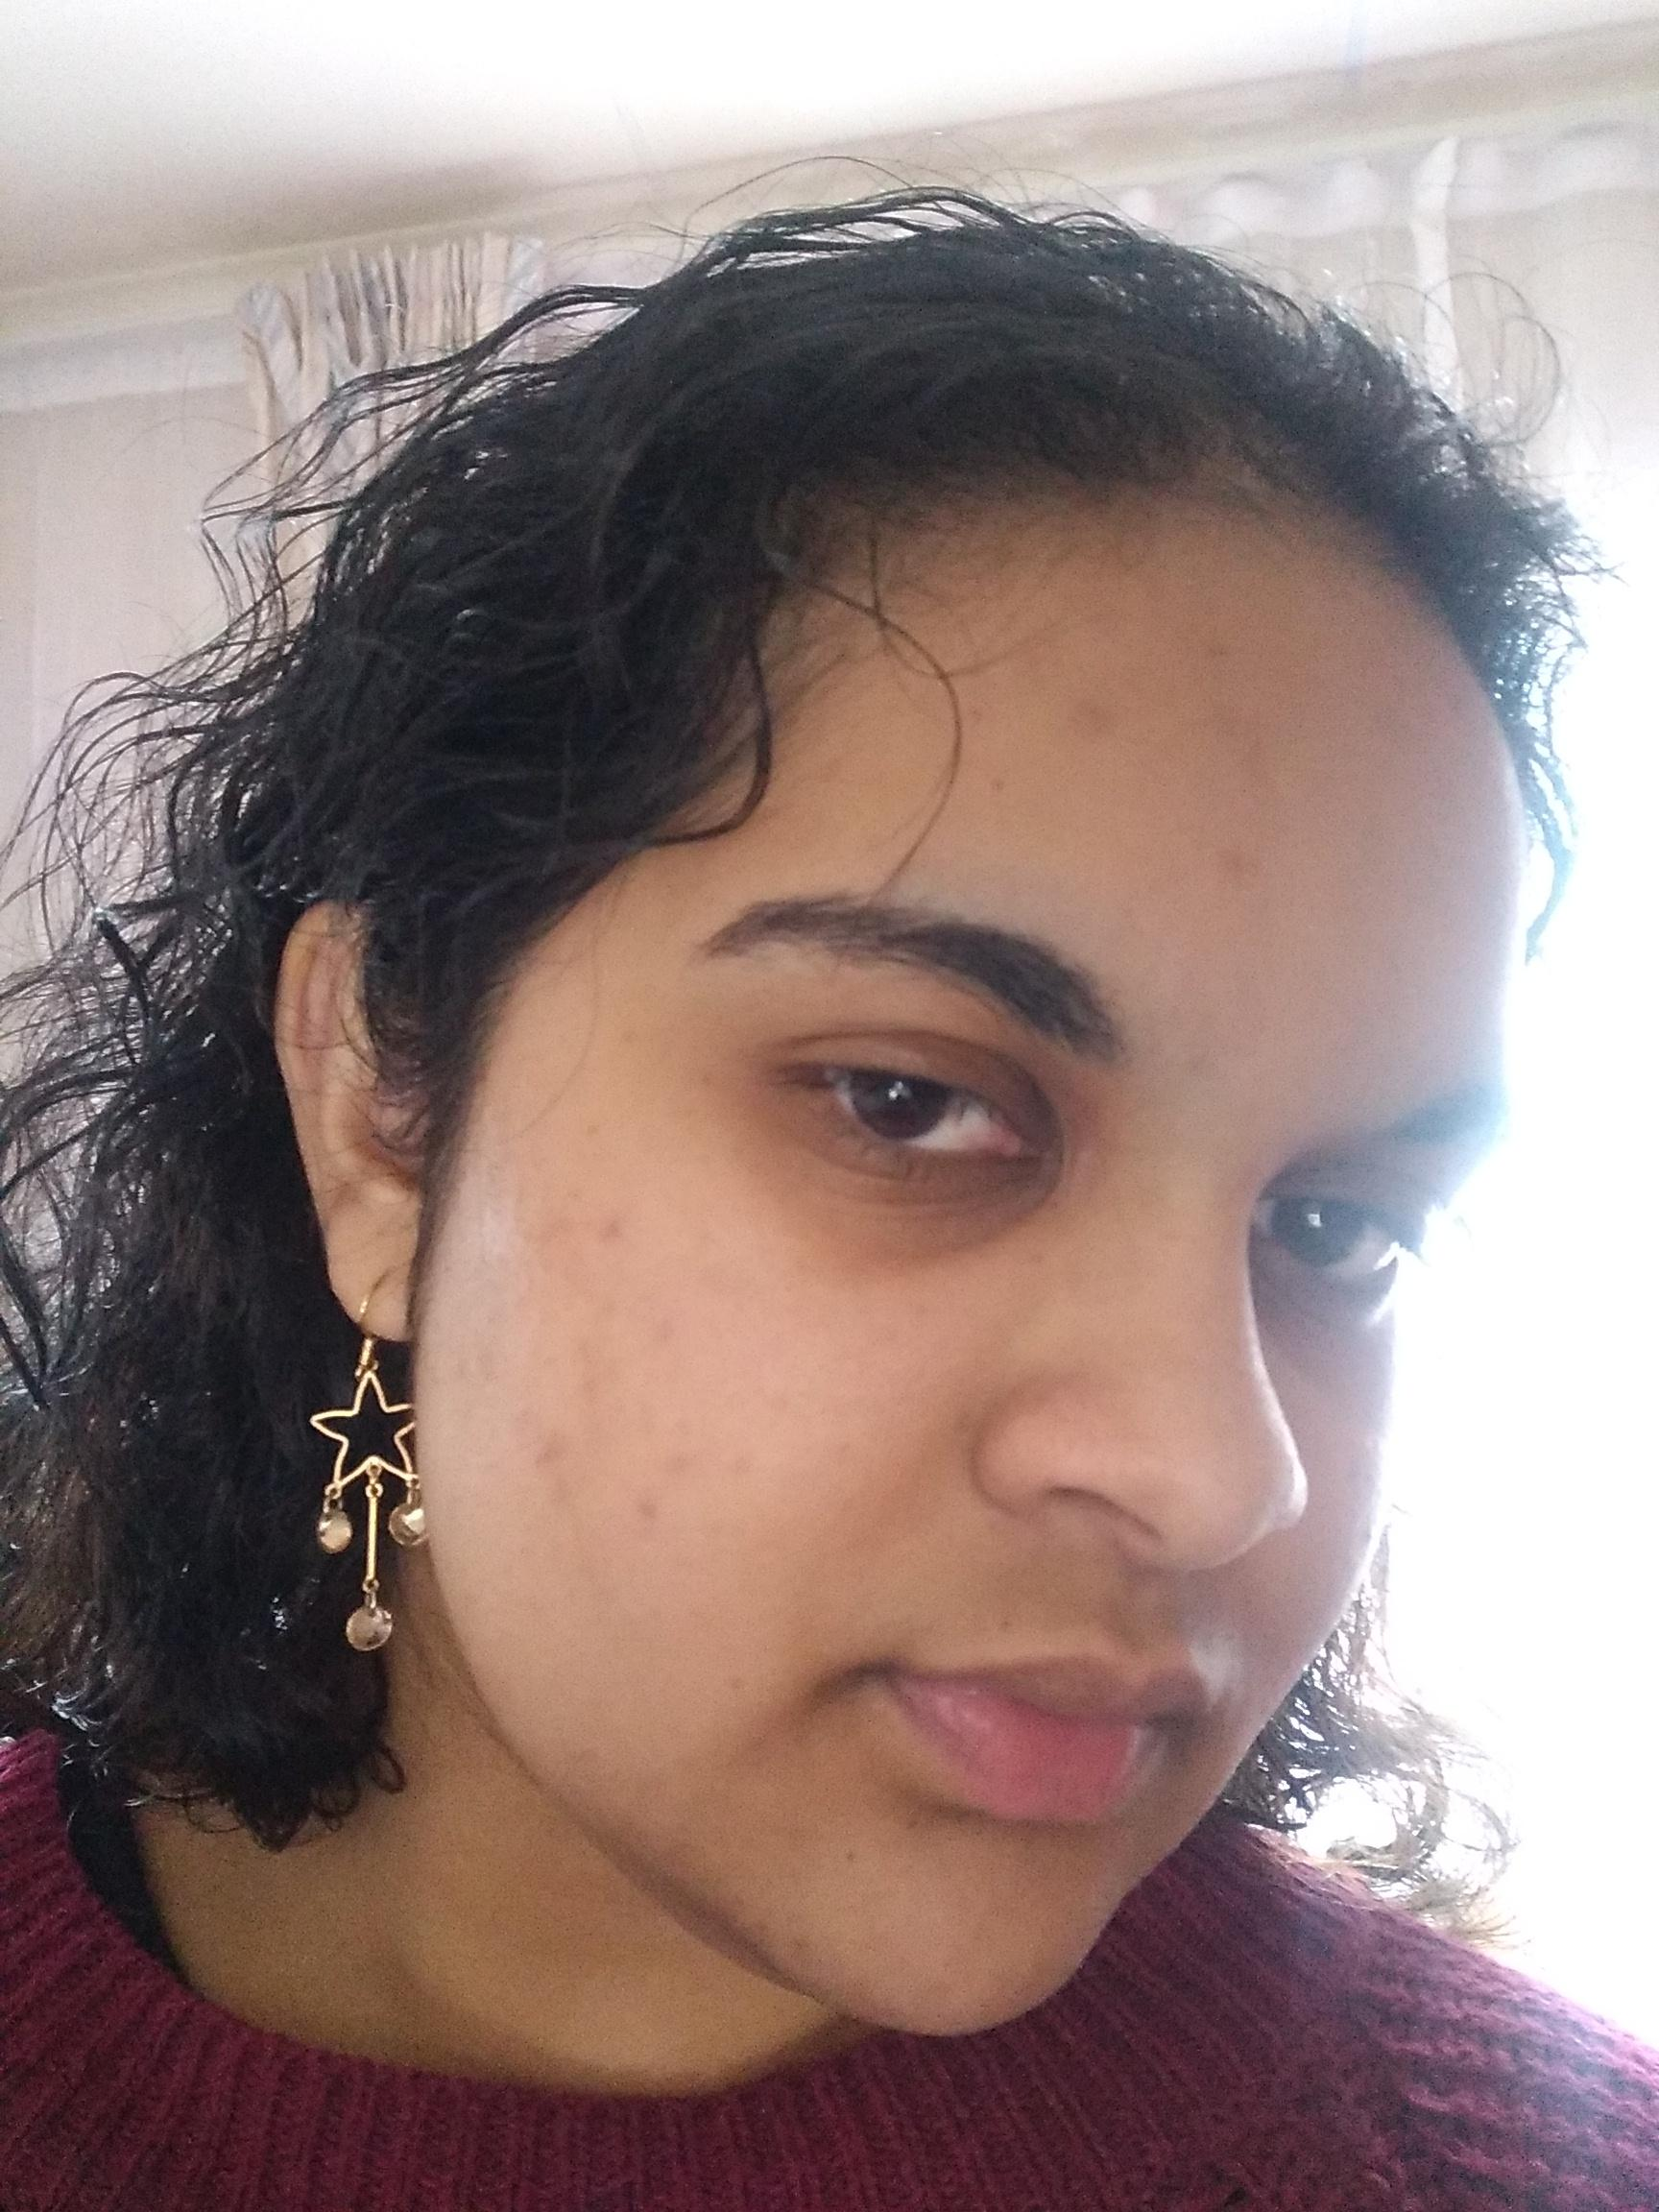Acne: (1075, 688, 1127, 758), (1209, 831, 1262, 895), (660, 1442, 718, 1496), (650, 1308, 706, 1353), (525, 1421, 563, 1482), (598, 1202, 640, 1256), (638, 1479, 667, 1548), (786, 1916, 819, 1961)
Eyebags: (727, 1073, 1066, 1277)
